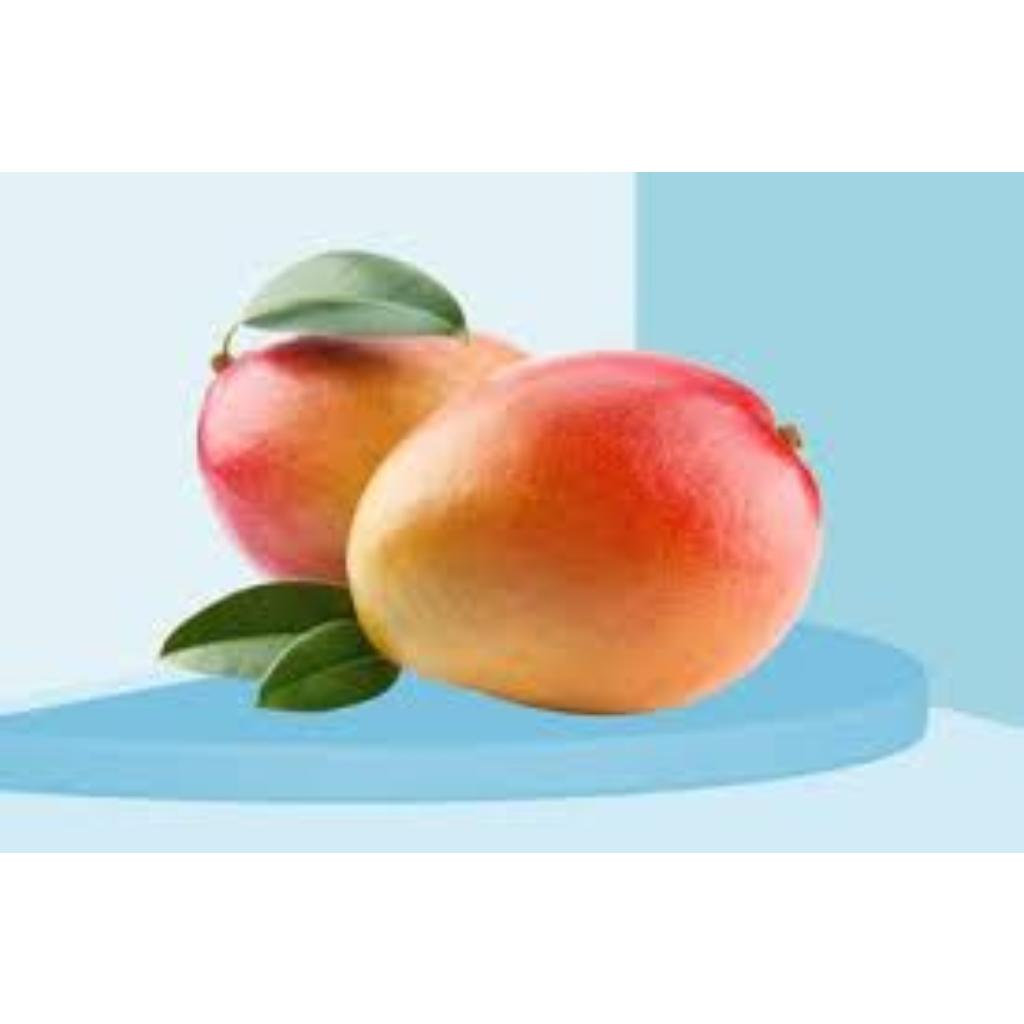mango: (346, 350, 830, 718), (193, 313, 544, 580)
